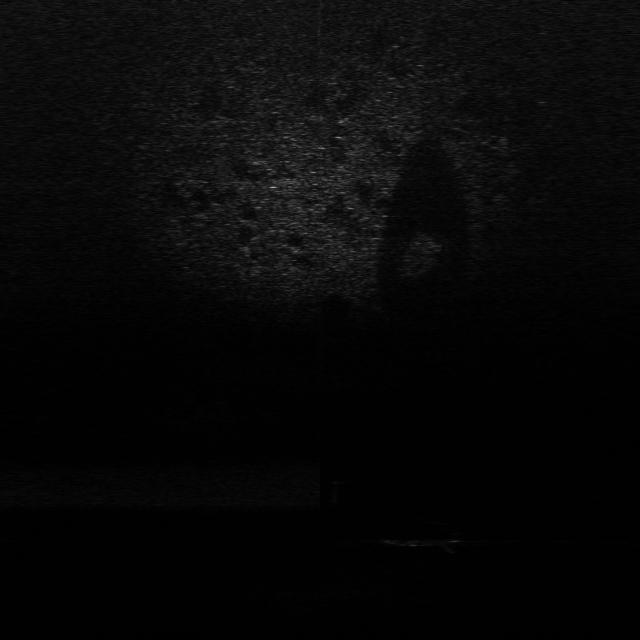ball: (324, 465, 354, 486)
tyre: (376, 514, 478, 550)
